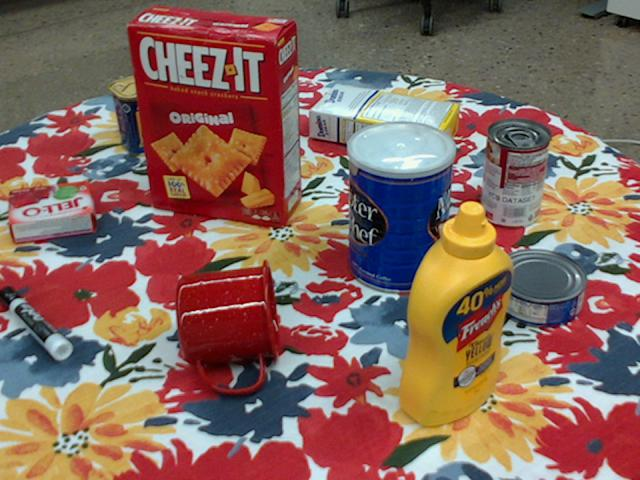cracker_box: (128, 5, 302, 222)
gelatin_box: (9, 180, 96, 244)
large_marker: (0, 285, 71, 359)
master_chef_can: (347, 121, 455, 295)
mug: (176, 259, 279, 394)
mustard_bottle: (399, 201, 511, 427)
potted_meat_can: (108, 66, 195, 154)
sugar_box: (308, 82, 460, 162)
tomato_soup_can: (480, 118, 550, 228)
tuna_fish_can: (493, 250, 585, 329)
